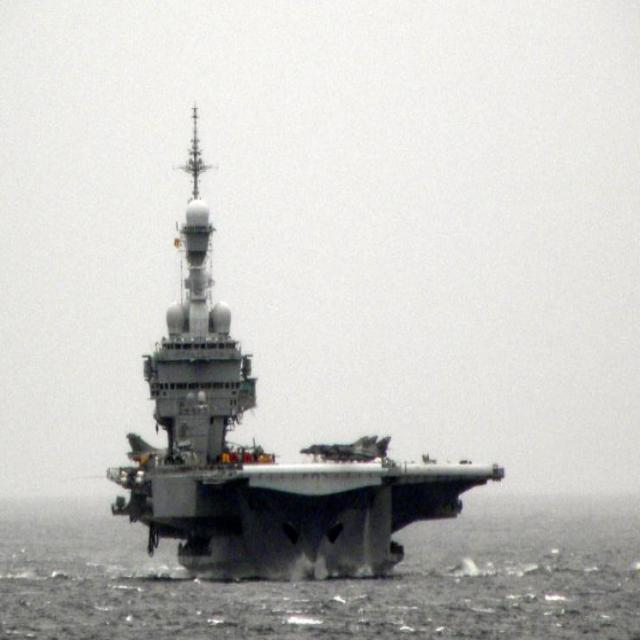Portanaves: (103, 74, 512, 582)
